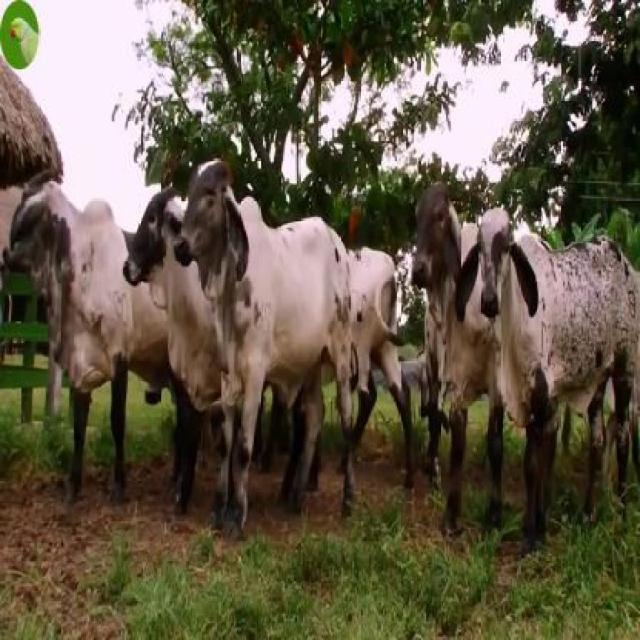Cow: (174, 157, 355, 525), (466, 205, 639, 543), (400, 160, 466, 382)
